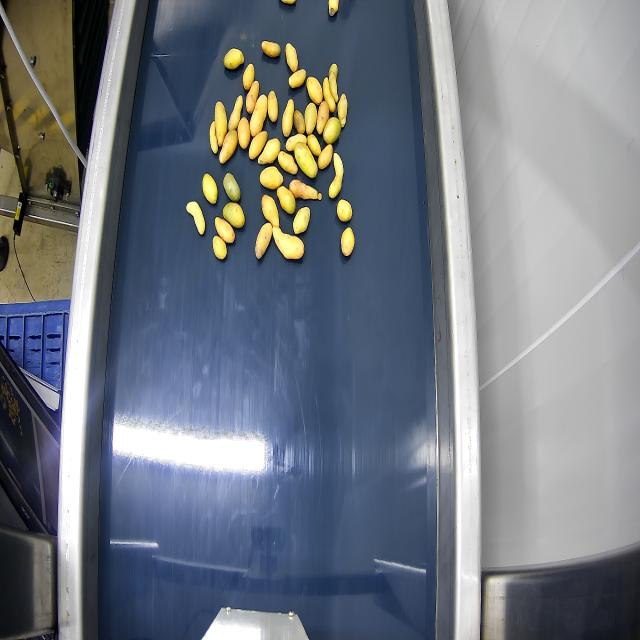Baby Potato: (273, 228, 304, 259), (294, 143, 317, 178), (250, 95, 267, 136), (186, 201, 205, 235), (329, 153, 343, 199), (289, 179, 321, 199), (255, 223, 272, 259), (219, 131, 237, 164), (260, 166, 284, 190), (258, 139, 280, 165), (214, 102, 227, 146), (223, 202, 244, 228), (262, 195, 279, 227), (277, 186, 295, 215), (228, 96, 243, 130), (249, 131, 267, 159), (215, 217, 234, 243), (223, 173, 240, 202), (282, 99, 294, 138), (323, 118, 341, 144), (278, 152, 298, 175), (202, 174, 217, 204), (246, 80, 259, 114), (316, 101, 329, 135), (224, 48, 244, 70), (307, 77, 322, 105), (304, 103, 317, 135), (293, 208, 309, 234), (323, 78, 335, 112), (238, 117, 250, 150), (337, 93, 348, 128), (341, 228, 354, 256), (286, 134, 306, 152), (329, 64, 338, 103), (286, 43, 298, 72), (318, 145, 332, 169), (337, 200, 352, 222), (307, 134, 321, 157), (213, 236, 226, 260), (289, 70, 306, 88), (262, 41, 280, 57), (293, 110, 305, 134), (243, 64, 254, 90), (268, 91, 277, 122), (210, 120, 218, 153), (329, 0, 338, 16), (281, 0, 295, 5)
